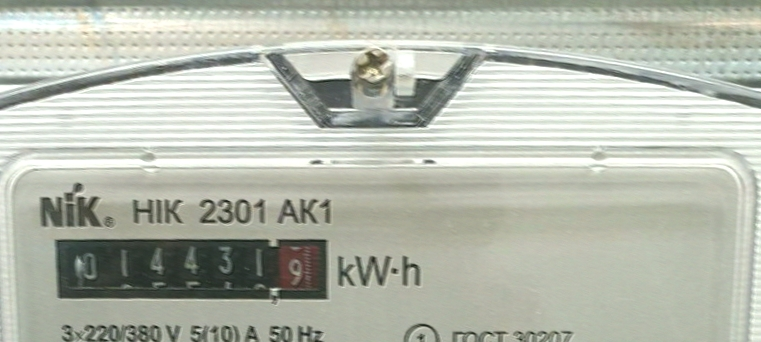0: (79, 247, 101, 281)
1: (116, 244, 135, 278), (253, 245, 267, 277)
3: (216, 243, 236, 276)
4: (147, 242, 169, 276), (182, 241, 201, 275)
9: (286, 254, 305, 286)
screen: (45, 219, 344, 317)
